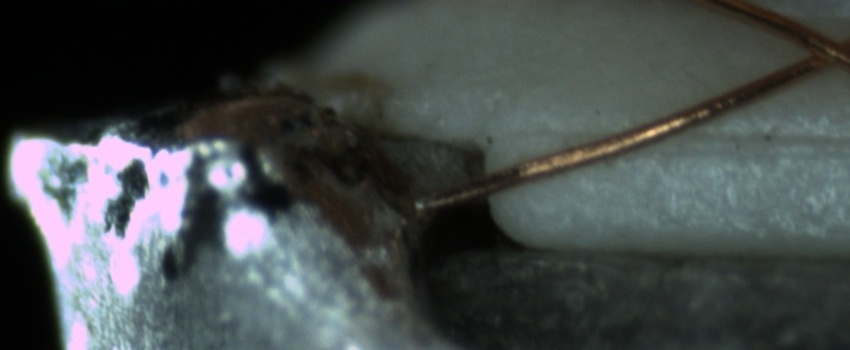CL: (779, 17, 847, 81)
DL: (527, 100, 850, 174)
